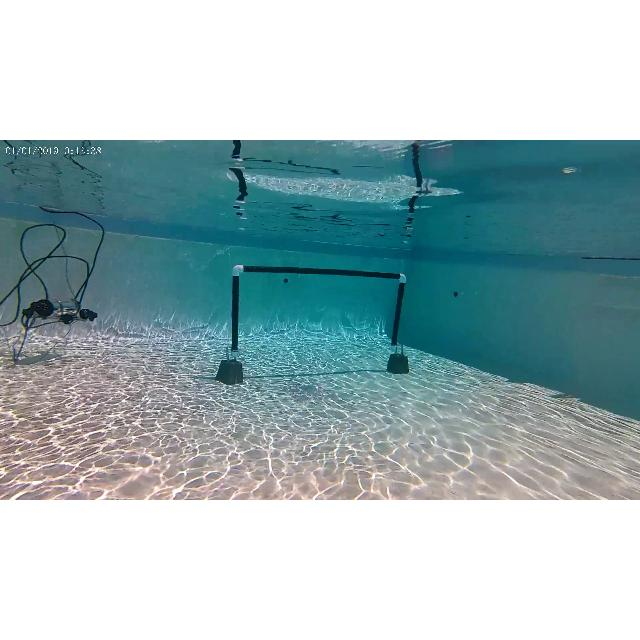prequal gate: (230, 262, 410, 358)
prequal gate leg l: (222, 264, 246, 386)
prequal gate leg r: (388, 268, 418, 374)
